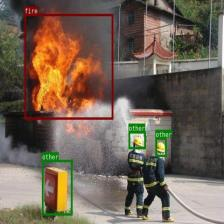fire: (24, 14, 113, 119)
